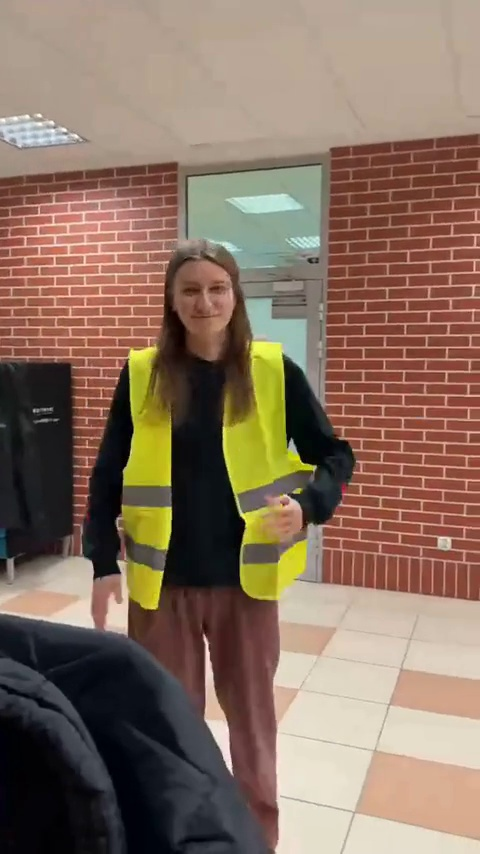vest: (83, 235, 354, 822)
